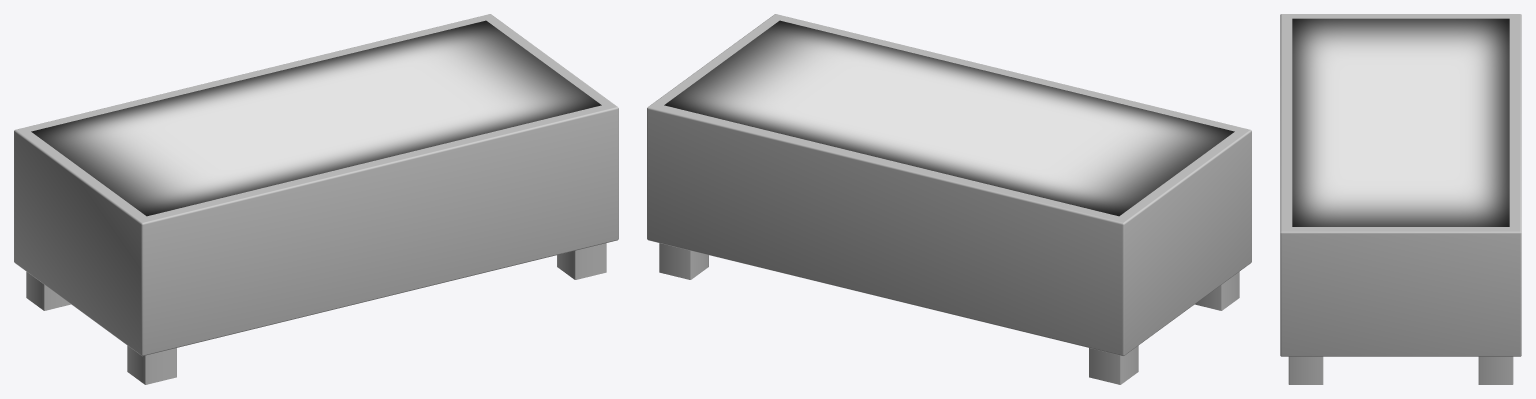
File: Table05_2.FBX
The picture shows the model from 3 angles, left to right: view 1: azimuth 30°, elevation 25°; view 2: azimuth 150°, elevation 25°; view 3: azimuth 270°, elevation 25°; orthographic projection. The views are drawn at different scales.
Parts seen in each view (by area): view 1: Table05_2; view 2: Table05_2; view 3: Table05_2.
Boxes of the visible parts, <box> form: Table05_2: <box>14,14,618,384</box>; Table05_2: <box>647,14,1251,384</box>; Table05_2: <box>1280,14,1521,384</box>.
Bounding box in the file's own units: 150 × 50 × 70.
